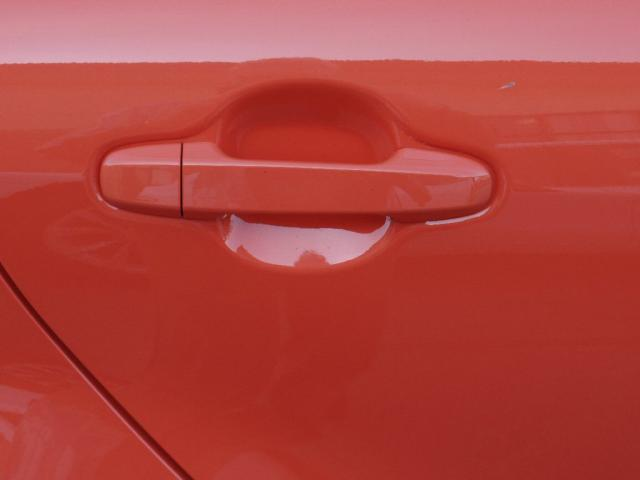Door-handle: (96, 134, 496, 219)
